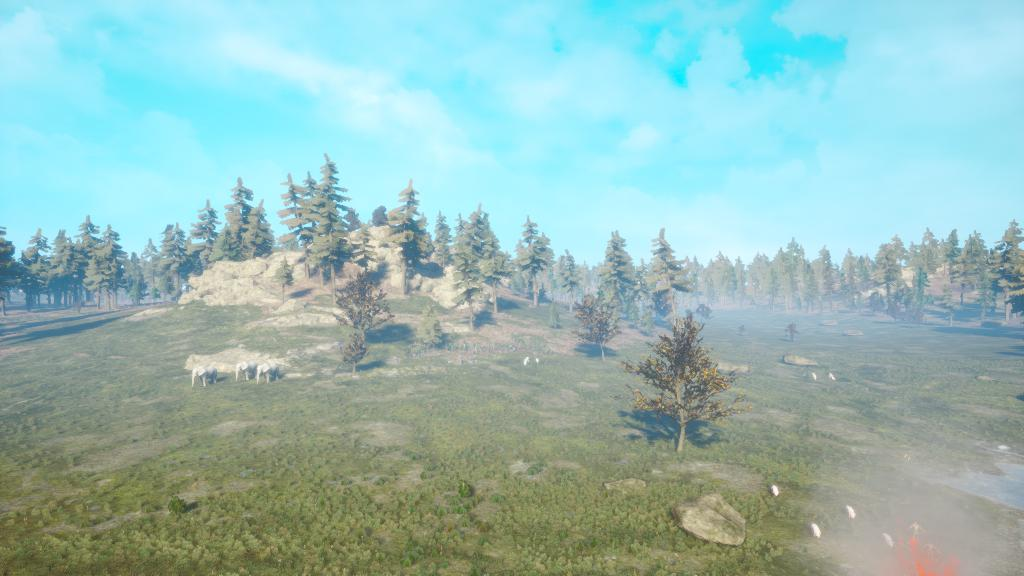Fire: (898, 534, 959, 575)
elephant: (251, 358, 285, 385), (187, 363, 222, 388), (233, 357, 260, 382)
human: (923, 541, 941, 563), (908, 519, 923, 542)
pig: (878, 531, 896, 550), (807, 522, 823, 539), (843, 504, 857, 521), (769, 484, 783, 499), (810, 372, 821, 385), (827, 372, 835, 382)
smoke: (847, 491, 995, 575)
